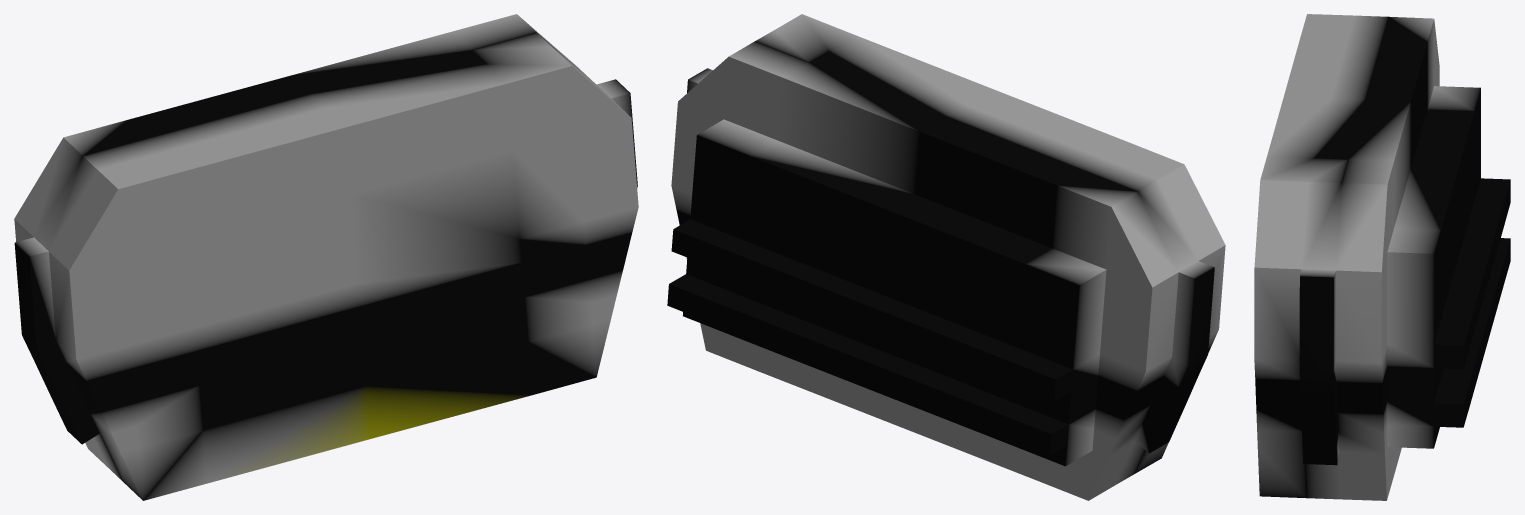
File: strong_buckle_06.glb
3 views of the same model, side by side, from view 1: azimuth 30°, elevation 25°; view 2: azimuth 150°, elevation 25°; view 3: azimuth 270°, elevation 25° (orthographic). The views are drawn at different scales.
Size of the model in its own units: 2.99 by 1.75 by 1.19.
